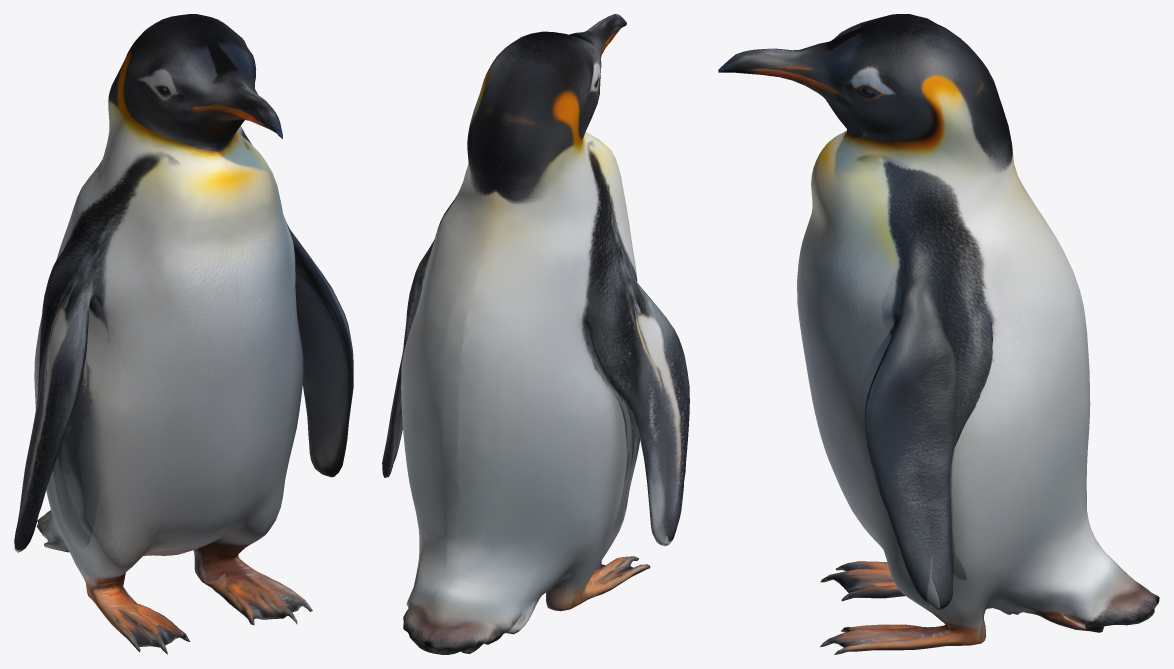
File: Penguin_0903040319_texture.fbx
3 views of the same model, side by side, from view 1: azimuth 30°, elevation 25°; view 2: azimuth 150°, elevation 25°; view 3: azimuth 270°, elevation 25° (orthographic). The views are drawn at different scales.
Visible parts, largest first — view 1: Mesh1.0; view 2: Mesh1.0; view 3: Mesh1.0.
Part boxes in pixels (left/top/right/bottom): Mesh1.0: left=14, top=14, right=353, bottom=654; Mesh1.0: left=382, top=14, right=689, bottom=654; Mesh1.0: left=718, top=14, right=1159, bottom=654.
Size of the model in its own units: 114 by 200 by 134.
Materials: 1 (1 with a texture image).
